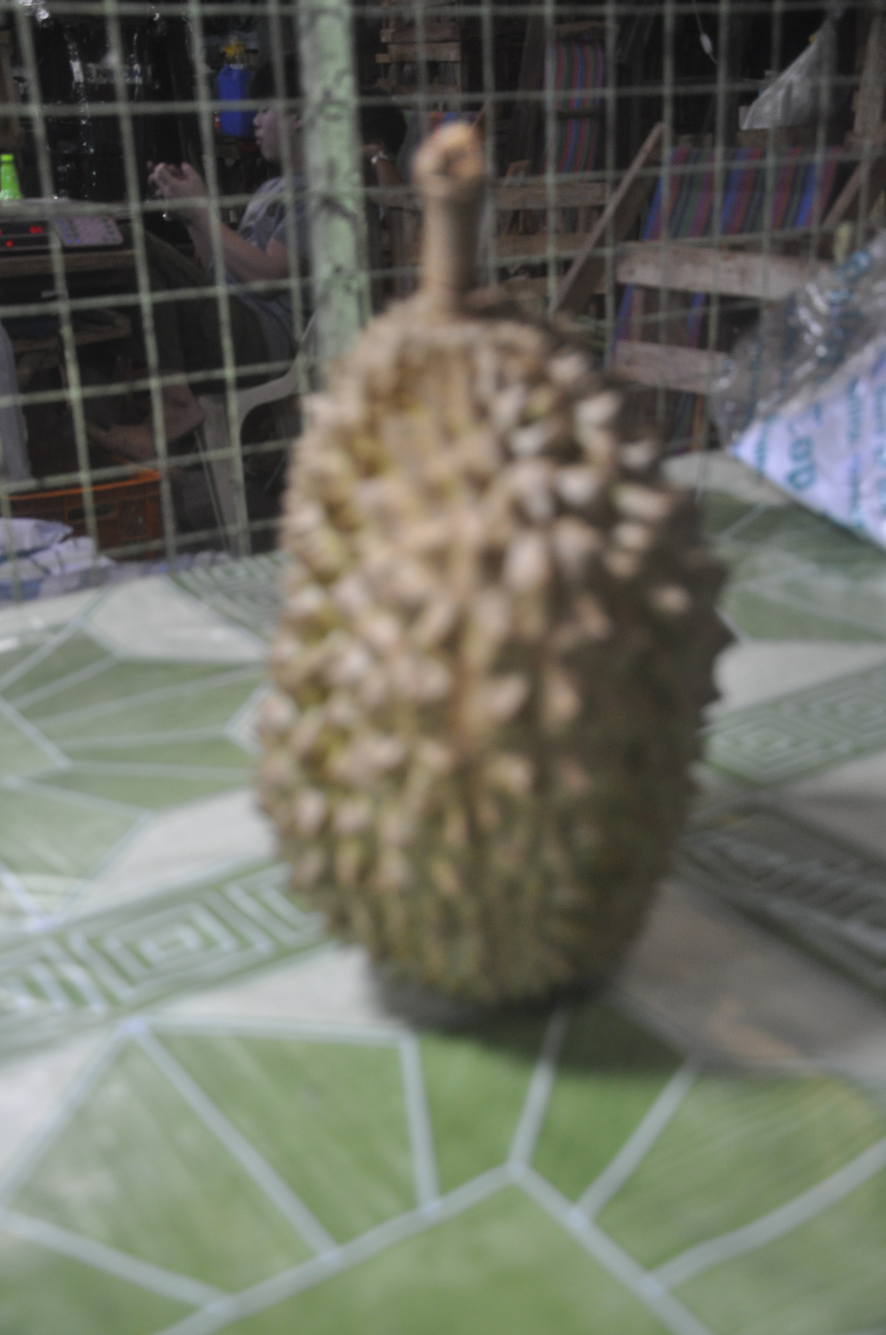mature: (260, 126, 728, 1002)
